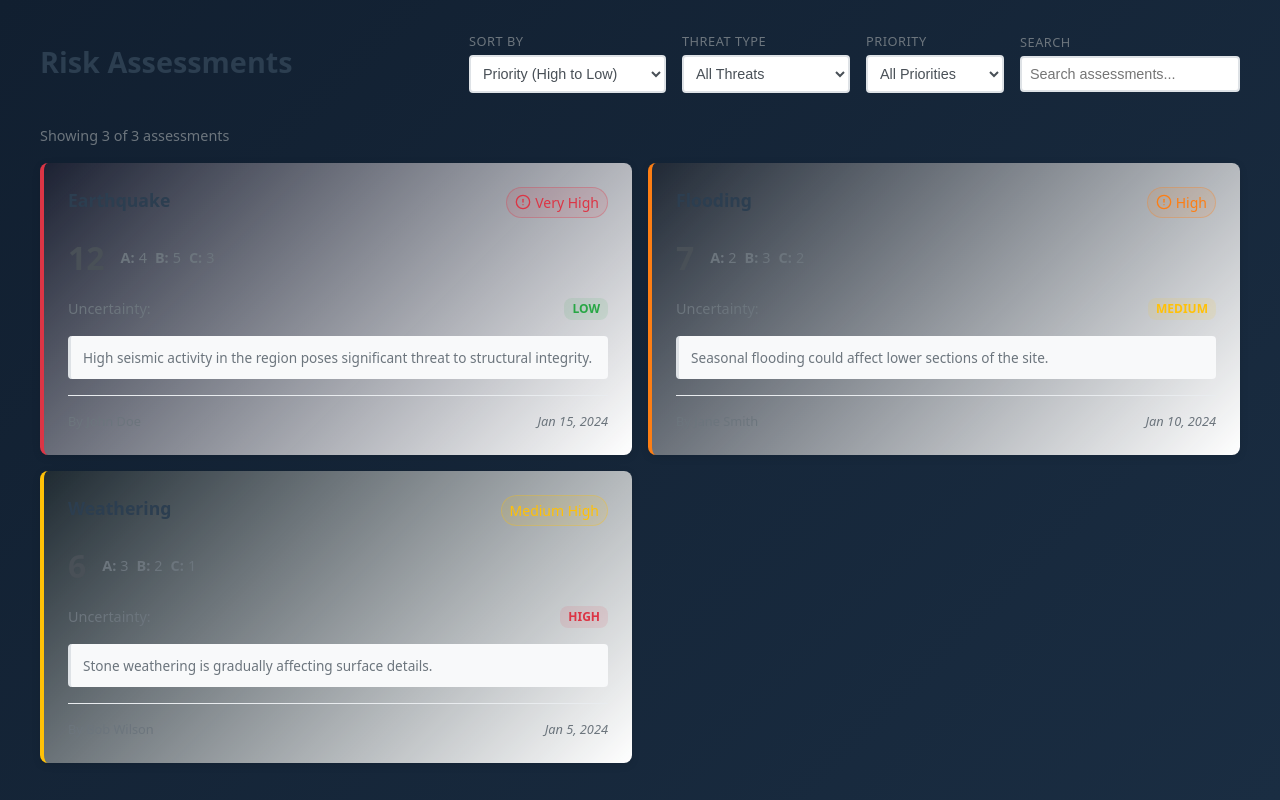
Test: RiskAssessmentList › shows empty state when no assessments match filters
Step 1. Type "nonexistent" into the field with placeholder "Search assessments..." → (1130, 74), box x1=1020 y1=56 x2=1240 y2=92
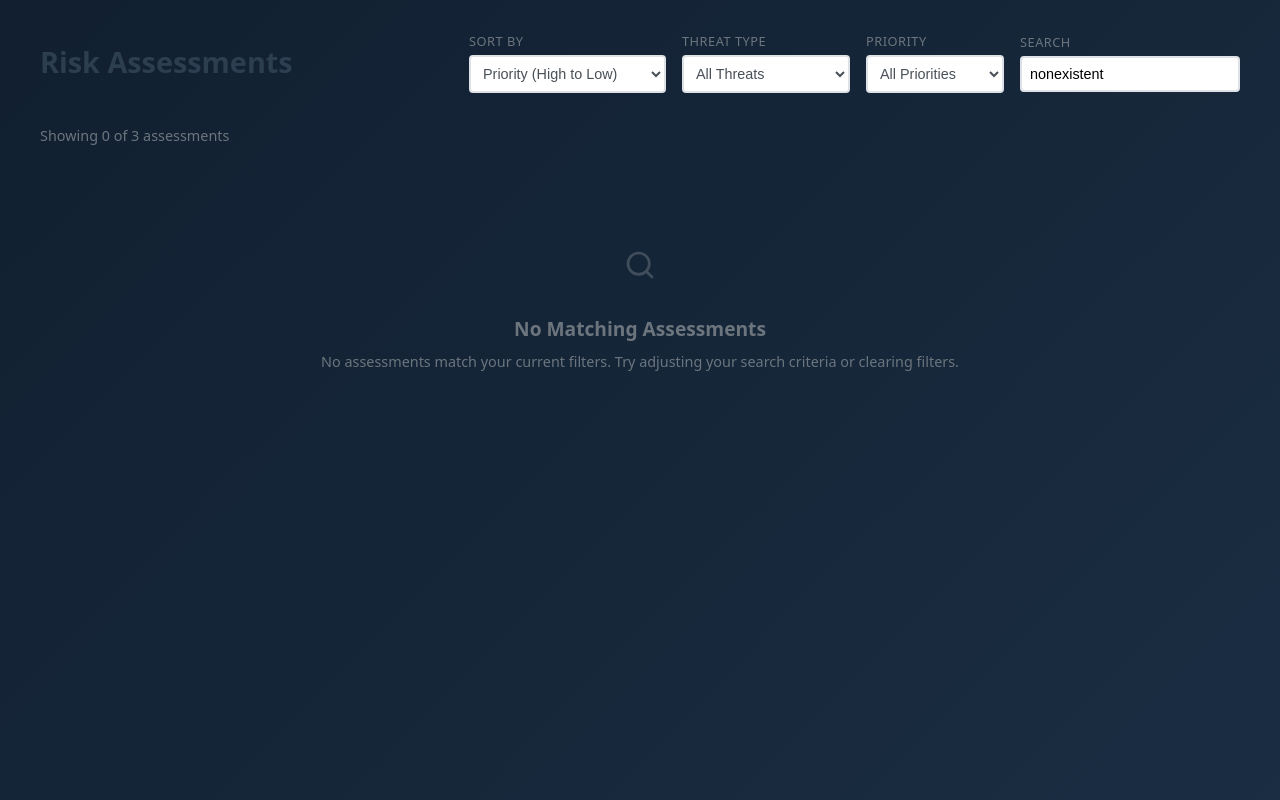
Result: the text "No Matching Assessments" is shown at x1=514 y1=315 x2=766 y2=342
Result: the text "No assessments match your current filters" is shown at x1=321 y1=352 x2=959 y2=371
